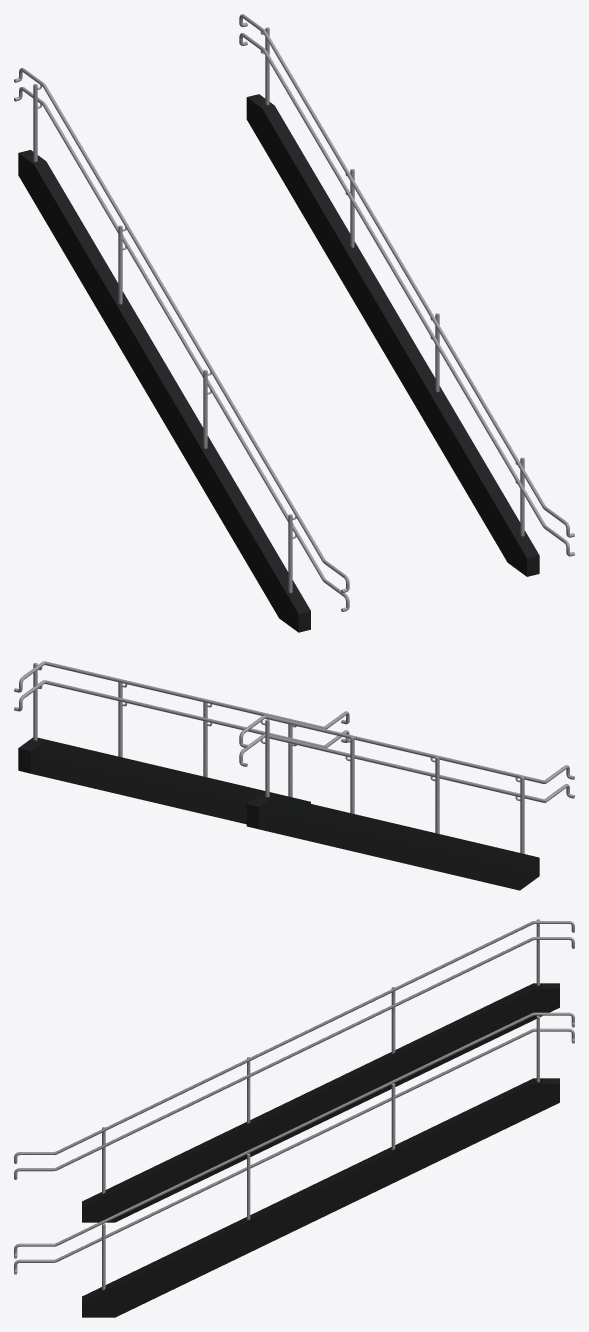
The model's file is gteki_stair_rails_w2400_n18_both.glb.
3 renders of one model, top to bottom at view 1: azimuth 30°, elevation 25°; view 2: azimuth 150°, elevation 25°; view 3: azimuth 270°, elevation 25°, orthographic. The views are drawn at different scales.
Parts seen in each view (by area): view 1: VIS_side_skirts, VIS_handrails, VIS_rail_supports; view 2: VIS_side_skirts, VIS_handrails, VIS_rail_supports; view 3: VIS_side_skirts, VIS_handrails, VIS_rail_supports.
Boxes of the visible parts, x1,y1,x2,y2 form: VIS_side_skirts: (18,94,539,632); VIS_handrails: (14,14,574,611); VIS_rail_supports: (33,27,524,592); VIS_side_skirts: (18,737,539,890); VIS_handrails: (14,661,574,802); VIS_rail_supports: (33,662,524,853); VIS_side_skirts: (82,983,559,1317); VIS_handrails: (14,921,574,1274); VIS_rail_supports: (102,919,539,1290).
Bounding box in the file's own units: 2.68 × 3.75 × 6.34.
Materials: 2 (1 with a texture image).
